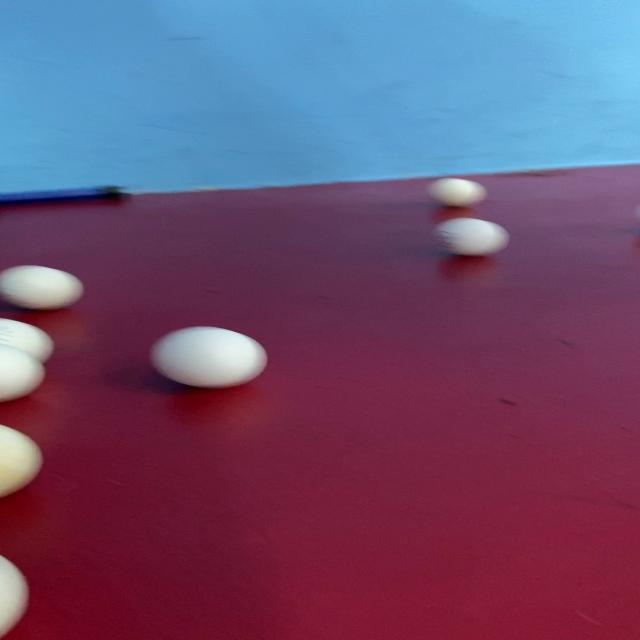ping-pong-ball: (136, 316, 287, 398), (405, 212, 531, 268), (0, 258, 109, 313), (0, 339, 56, 408), (0, 419, 40, 506), (415, 173, 504, 208)
